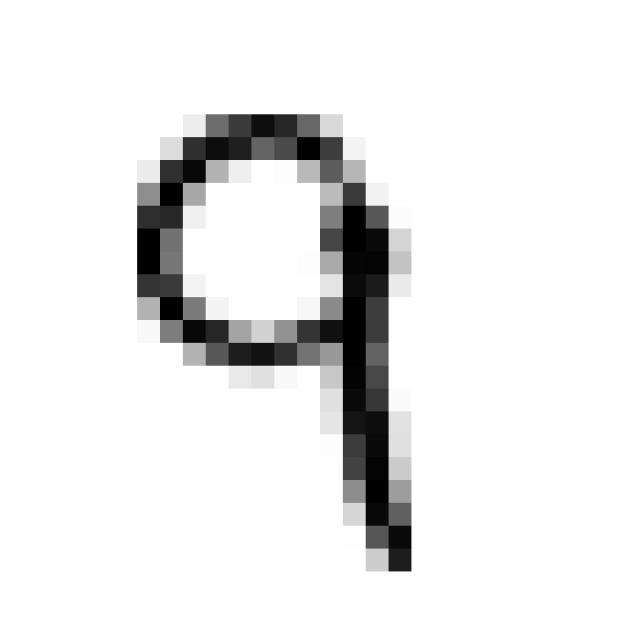9 -nine-: (110, 91, 432, 600)
